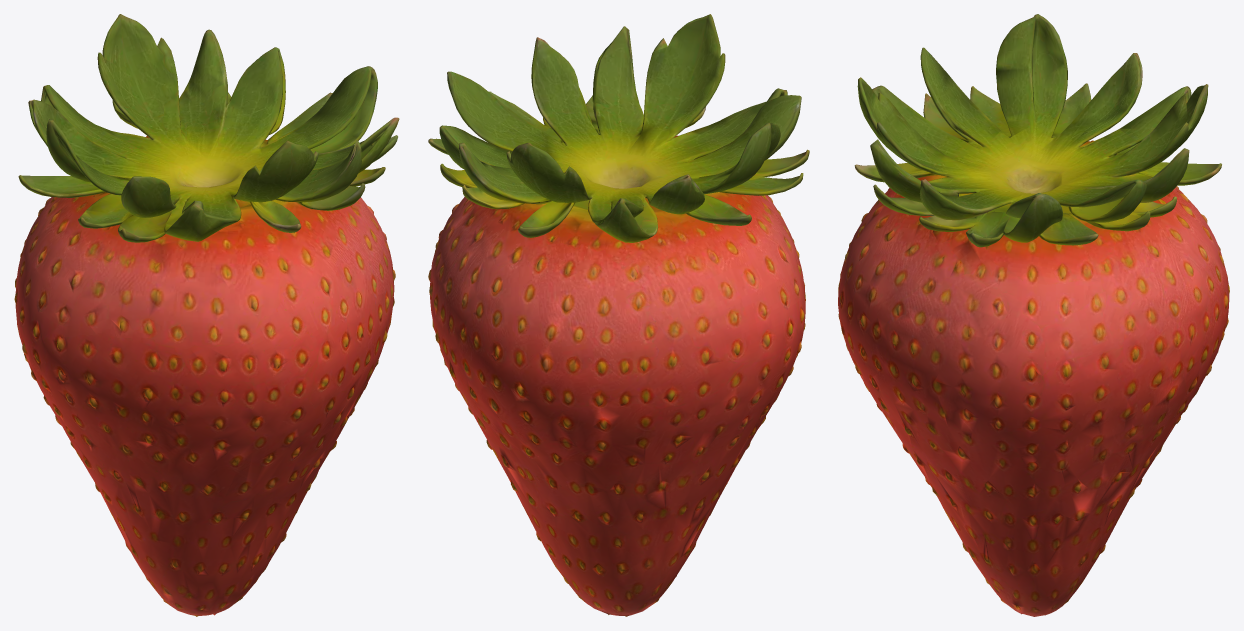
The model's file is bk-berry-strawberry.glb.
3 views of the same model, side by side, from view 1: azimuth 30°, elevation 25°; view 2: azimuth 150°, elevation 25°; view 3: azimuth 270°, elevation 25° (orthographic).
Parts seen in each view (by area): view 1: node_0; view 2: node_0; view 3: node_0.
Part boxes in pixels (bbox=[...]): node_0: bbox=[14, 14, 399, 616]; node_0: bbox=[428, 14, 809, 616]; node_0: bbox=[838, 14, 1229, 616].
Bounding box in the file's own units: 0.6955 × 1.03 × 0.6877.
Materials: 1 (1 with a texture image).
